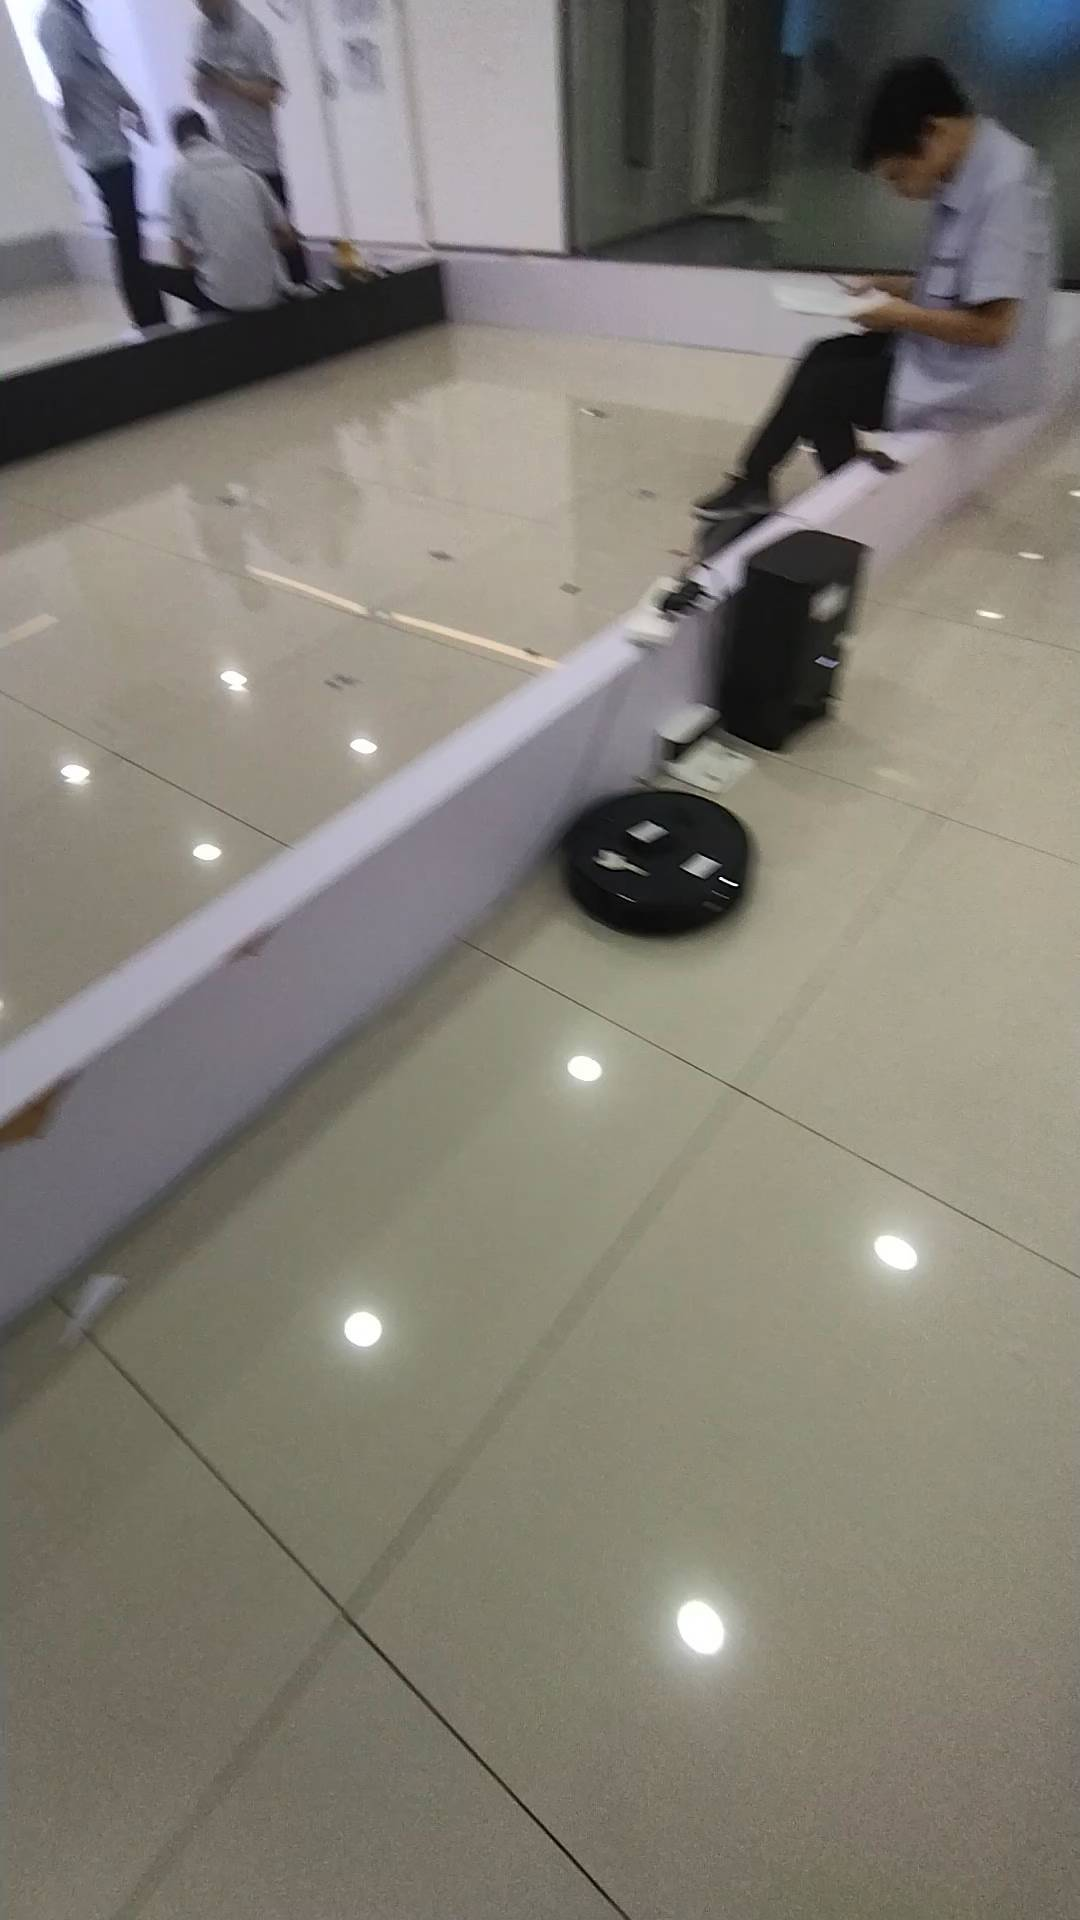dust collecting barrel: (740, 531, 870, 748)
recharge seat: (655, 702, 760, 789)
